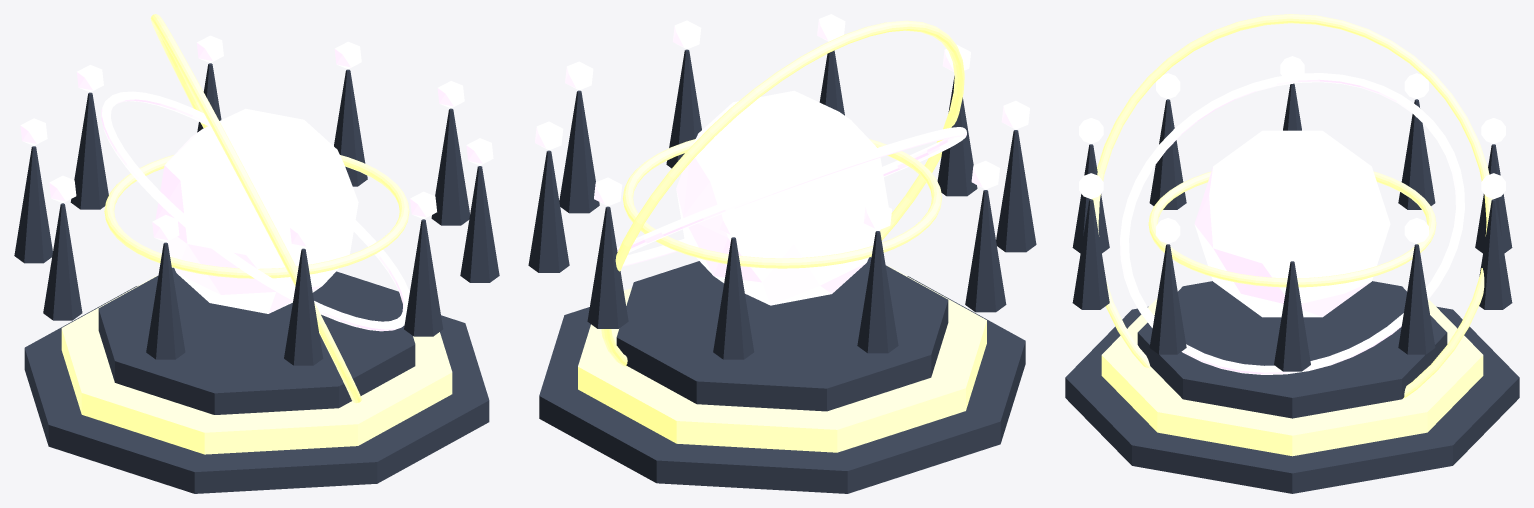
Rendered from gpu-blender-v2.glb.
3 renders of one model, left to right at view 1: azimuth 30°, elevation 25°; view 2: azimuth 150°, elevation 25°; view 3: azimuth 270°, elevation 25°, orthographic. The views are drawn at different scales.
Visible parts, largest first — view 1: Cylinder.002, SovereignCore_pixel-cast, Cylinder, Cylinder.001, Torus.001, Torus, Torus.002, Cone.004, Cone.005, Cone.008, Cone.006, Cone.007 (+15 smaller); view 2: Cylinder.002, SovereignCore_pixel-cast, Cylinder, Cylinder.001, Torus.002, Torus, Torus.001, Cone.004, Cone.005, Cone.006, Cone.003, Cone.001 (+14 smaller); view 3: SovereignCore_pixel-cast, Cylinder.002, Cylinder, Cylinder.001, Torus.001, Torus.002, Torus, Cone.001, Cone.009, Cone, Cone.008, Cone.002 (+14 smaller).
Part boxes in pixels (bbox=[...]): Cylinder.002: bbox=[98, 267, 415, 414]; SovereignCore_pixel-cast: bbox=[155, 108, 358, 313]; Cylinder: bbox=[24, 286, 489, 493]; Cylinder.001: bbox=[61, 276, 452, 454]; Torus.001: bbox=[101, 91, 409, 331]; Torus: bbox=[104, 155, 409, 278]; Torus.002: bbox=[150, 14, 361, 403]; Cone.004: bbox=[14, 146, 52, 263]; Cone.005: bbox=[43, 203, 82, 320]; Cone.008: bbox=[404, 219, 443, 336]; Cone.006: bbox=[146, 242, 185, 359]; Cone.007: bbox=[284, 248, 323, 365]; Cylinder.002: bbox=[616, 257, 948, 411]; SovereignCore_pixel-cast: bbox=[676, 90, 888, 305]; Cylinder: bbox=[539, 276, 1025, 493]; Cylinder.001: bbox=[578, 266, 986, 452]; Torus.002: bbox=[601, 20, 964, 366]; Torus: bbox=[623, 139, 941, 268]; Torus.001: bbox=[617, 127, 966, 266]; Cone.004: bbox=[857, 231, 898, 353]; Cone.005: bbox=[965, 190, 1006, 312]; Cone.006: bbox=[996, 130, 1036, 252]; Cone.003: bbox=[713, 237, 754, 359]; Cone.001: bbox=[528, 150, 569, 272]; SovereignCore_pixel-cast: bbox=[1194, 130, 1390, 317]; Cylinder.002: bbox=[1137, 281, 1447, 418]; Cylinder: bbox=[1065, 306, 1519, 493]; Cylinder.001: bbox=[1101, 298, 1483, 456]; Torus.001: bbox=[1120, 73, 1464, 374]; Torus.002: bbox=[1092, 14, 1492, 398]; Torus: bbox=[1148, 171, 1436, 287]; Cone.001: bbox=[1398, 244, 1435, 354]; Cone.009: bbox=[1149, 244, 1186, 354]; Cone: bbox=[1274, 261, 1310, 371]; Cone.008: bbox=[1072, 199, 1109, 309]; Cone.002: bbox=[1479, 199, 1512, 309].
Size of the model in its own units: 4.41 by 3.72 by 4.4.
